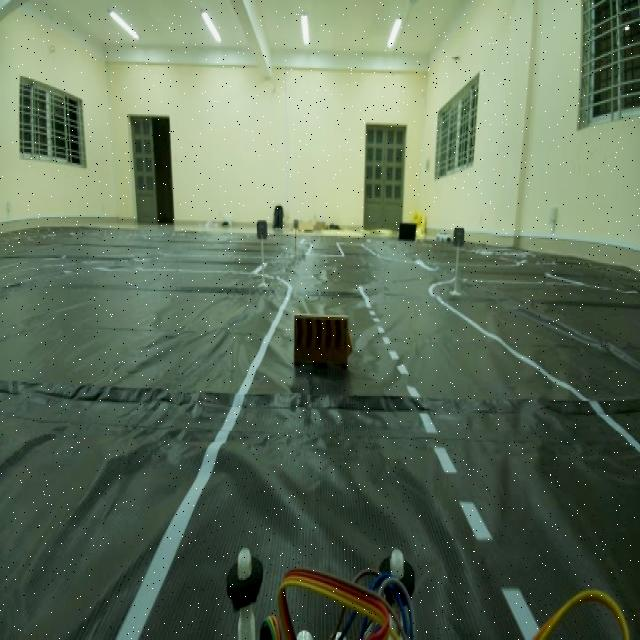roadblock: (287, 305, 358, 381)
